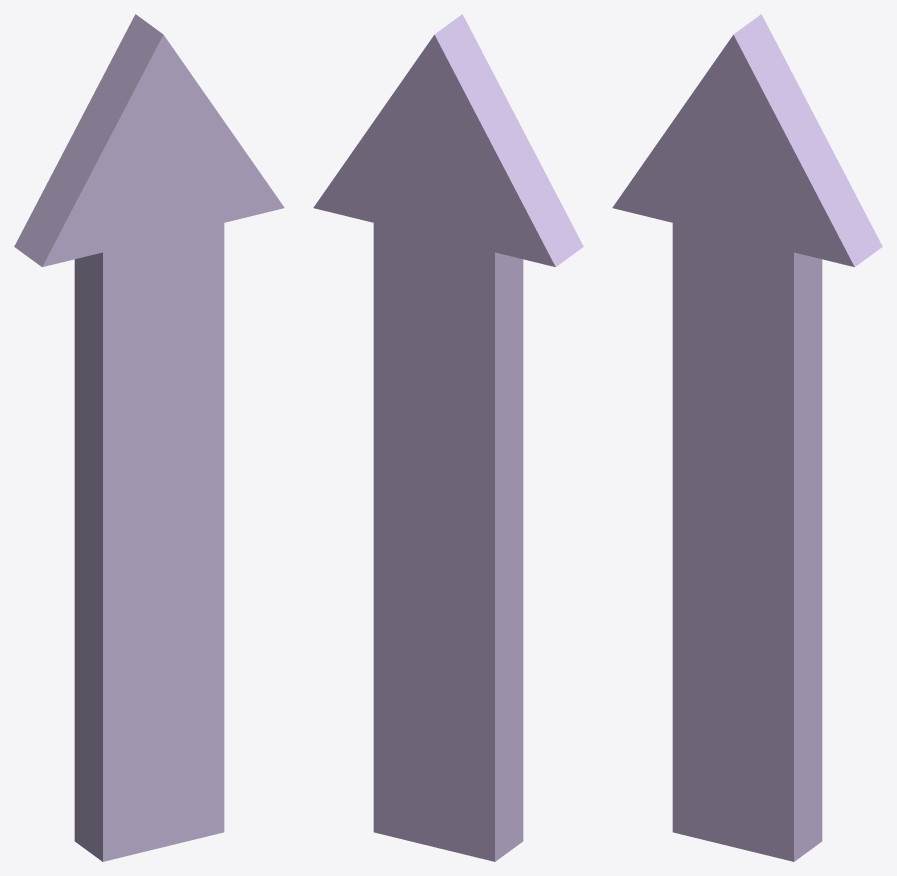
File: SM_Arrow_01.glb
The picture shows the model from 3 angles, left to right: view 1: azimuth 30°, elevation 25°; view 2: azimuth 150°, elevation 25°; view 3: azimuth 330°, elevation 25°; orthographic projection.
Parts seen in each view (by area): view 1: SM_Arrow_01; view 2: SM_Arrow_01; view 3: SM_Arrow_01.
Part boxes in pixels (x1=…): SM_Arrow_01: x1=14, y1=14, x2=284, y2=861; SM_Arrow_01: x1=313, y1=14, x2=583, y2=861; SM_Arrow_01: x1=612, y1=14, x2=882, y2=861.
Bounding box in the file's own units: 0.5 × 1.6 × 0.1.
